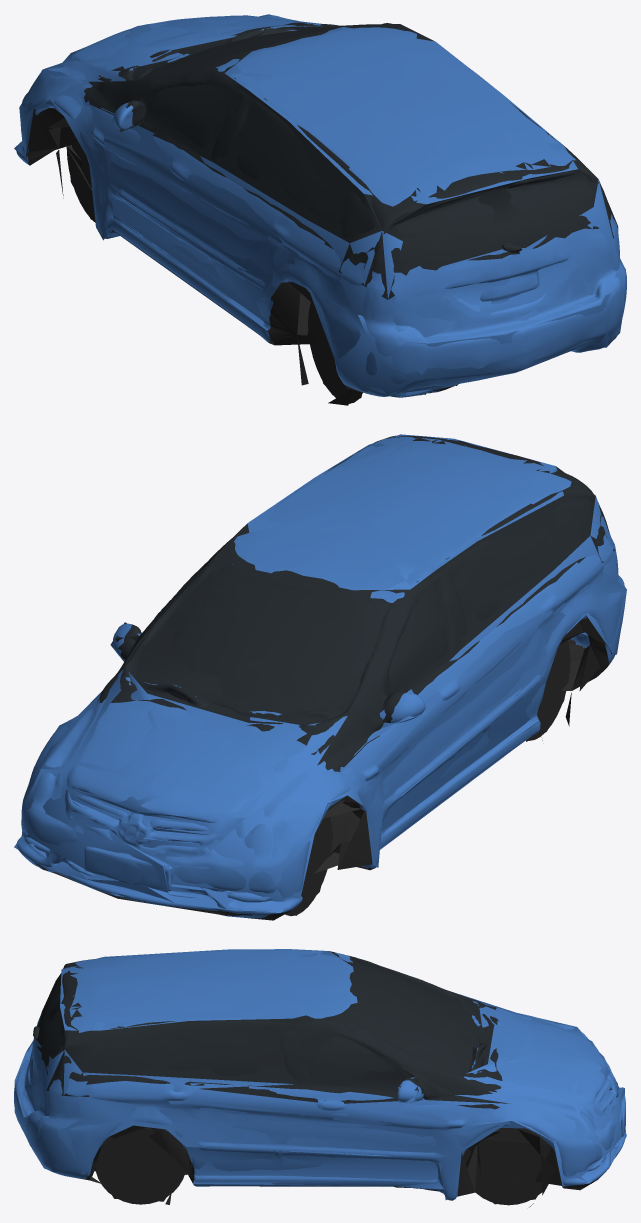
Rendered from mercedes-benz-r-class.glb.
3 views of the same model, one above another, from view 1: azimuth 30°, elevation 25°; view 2: azimuth 150°, elevation 25°; view 3: azimuth 270°, elevation 25° (orthographic). The views are drawn at different scales.
Parts seen in each view (by area): view 1: body, far; view 2: body, far; view 3: body, far.
Part boxes in pixels (<box>): body: <box>16,15,626,405</box>; far: <box>14,14,625,401</box>; body: <box>17,435,624,920</box>; far: <box>14,434,626,915</box>; body: <box>14,950,625,1207</box>; far: <box>14,949,626,1204</box>.
Size of the model in its own units: 2.27 by 1.71 by 5.07.
